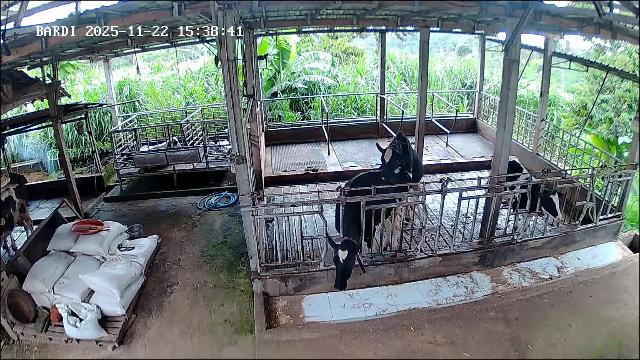mounting: (377, 130, 423, 216)
